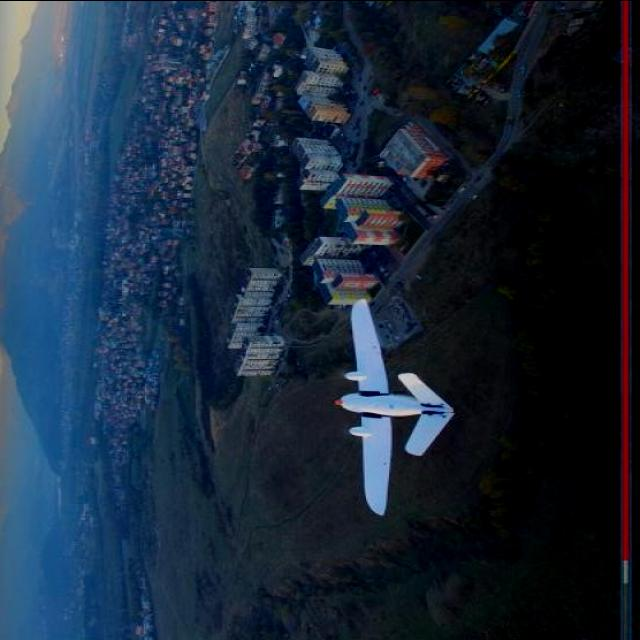plane: (331, 296, 456, 514)
